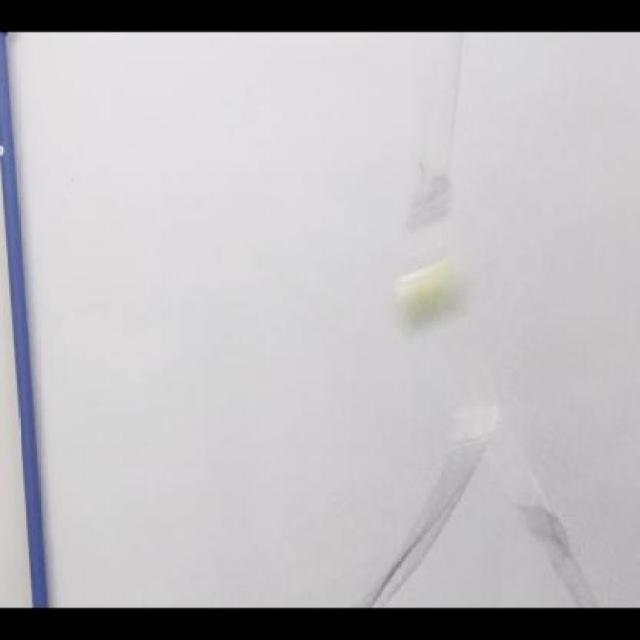baseball: (400, 258, 477, 333)
